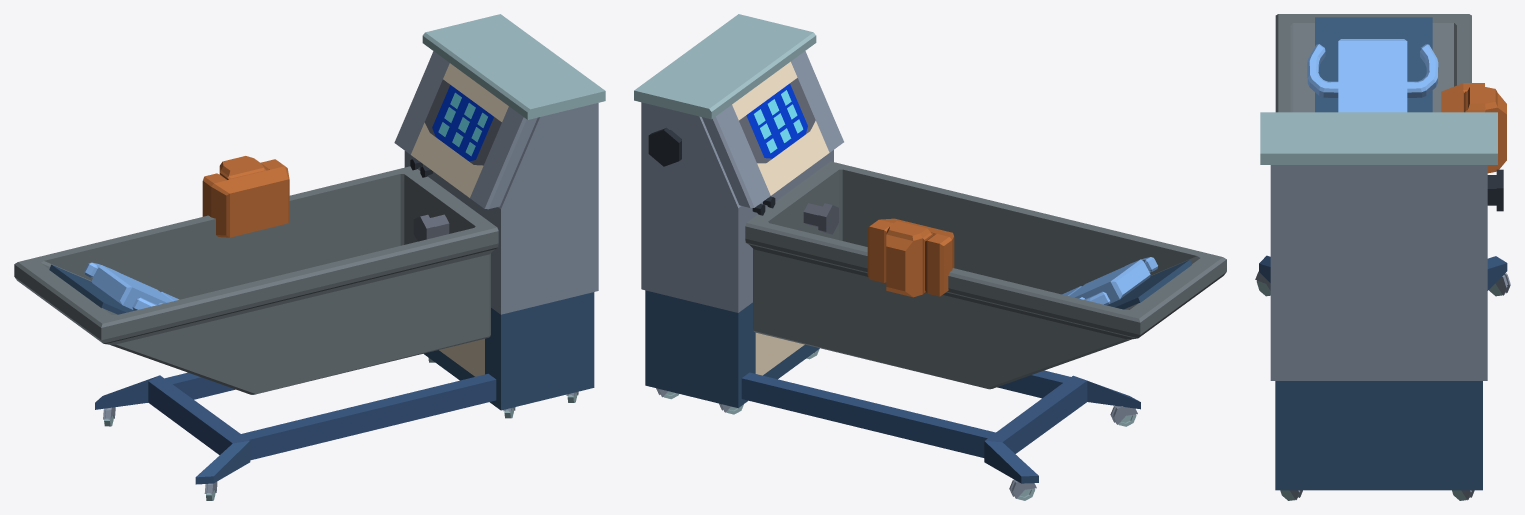
The model's file is g_o_RoomBurnTreatment.fbx.
The picture shows the model from 3 angles, left to right: view 1: azimuth 30°, elevation 25°; view 2: azimuth 150°, elevation 25°; view 3: azimuth 270°, elevation 25°; orthographic projection. The views are drawn at different scales.
Parts seen in each view (by area): view 1: TreatmentBurnUnit; view 2: TreatmentBurnUnit; view 3: TreatmentBurnUnit.
Boxes of the visible parts, bbox=[...] form: TreatmentBurnUnit: bbox=[14, 14, 605, 500]; TreatmentBurnUnit: bbox=[634, 14, 1226, 500]; TreatmentBurnUnit: bbox=[1255, 14, 1510, 500].
Bounding box in the file's own units: 201 × 122 × 79.3.
